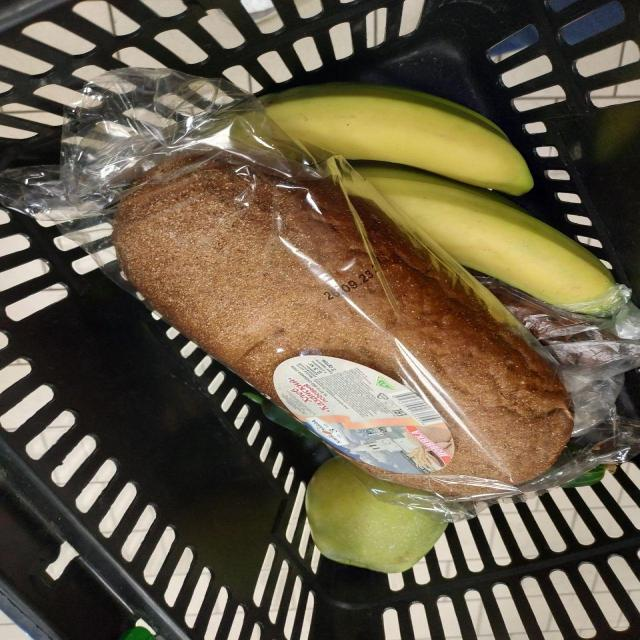Apple: (307, 458, 447, 572)
Banana: (357, 162, 617, 305), (260, 82, 533, 195)
Bread: (112, 160, 572, 495)
